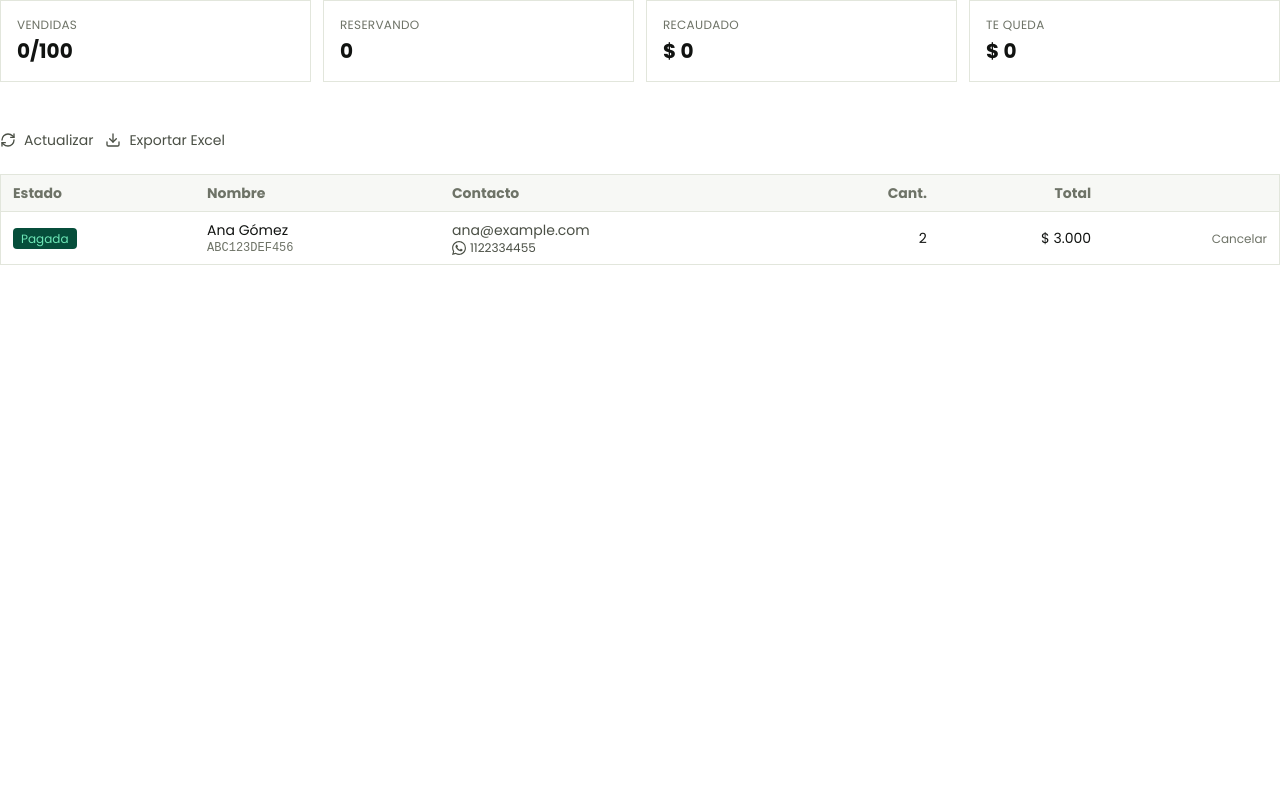
Test: PanelVentas › cancelar una compra › pregunta antes de cancelar
Click the button "Cancelar" at (1239, 239), box [1212,231,1267,247]
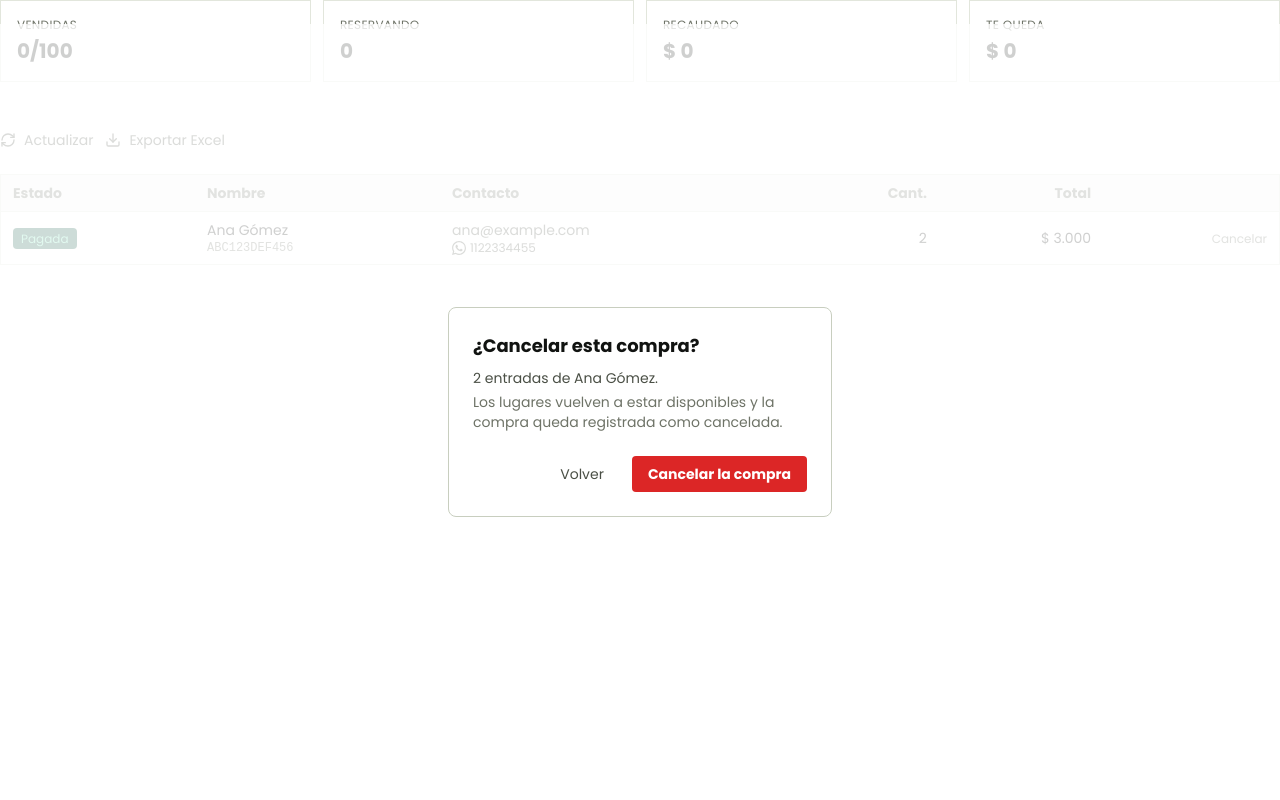
Result: the heading "¿Cancelar esta compra?" is shown at [473,333,700,358]
